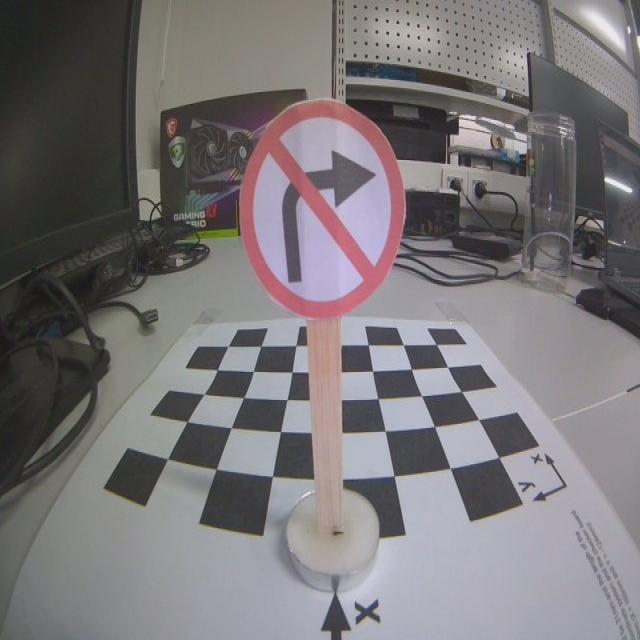Dilarang Belok Kanan: (244, 104, 404, 315)
